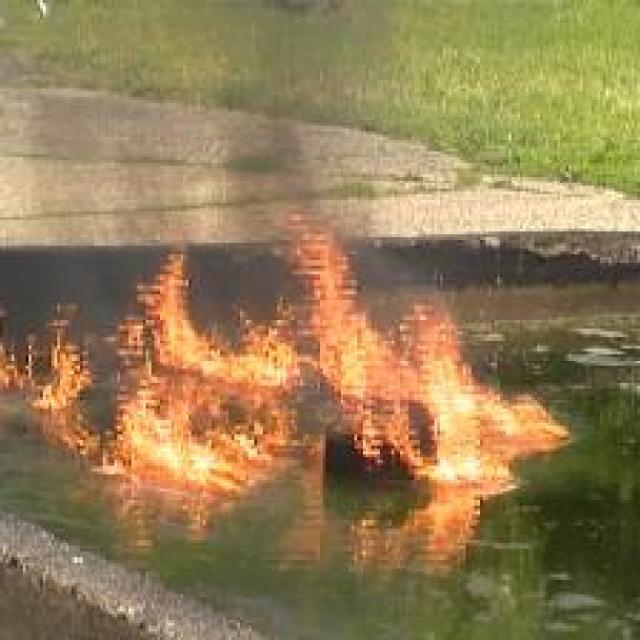Fire: (1, 216, 568, 573)
